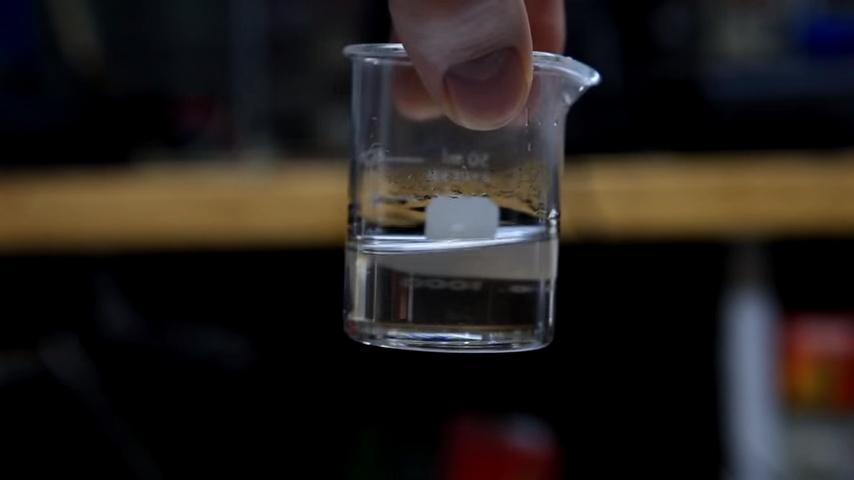Beaker: (330, 33, 603, 356)
